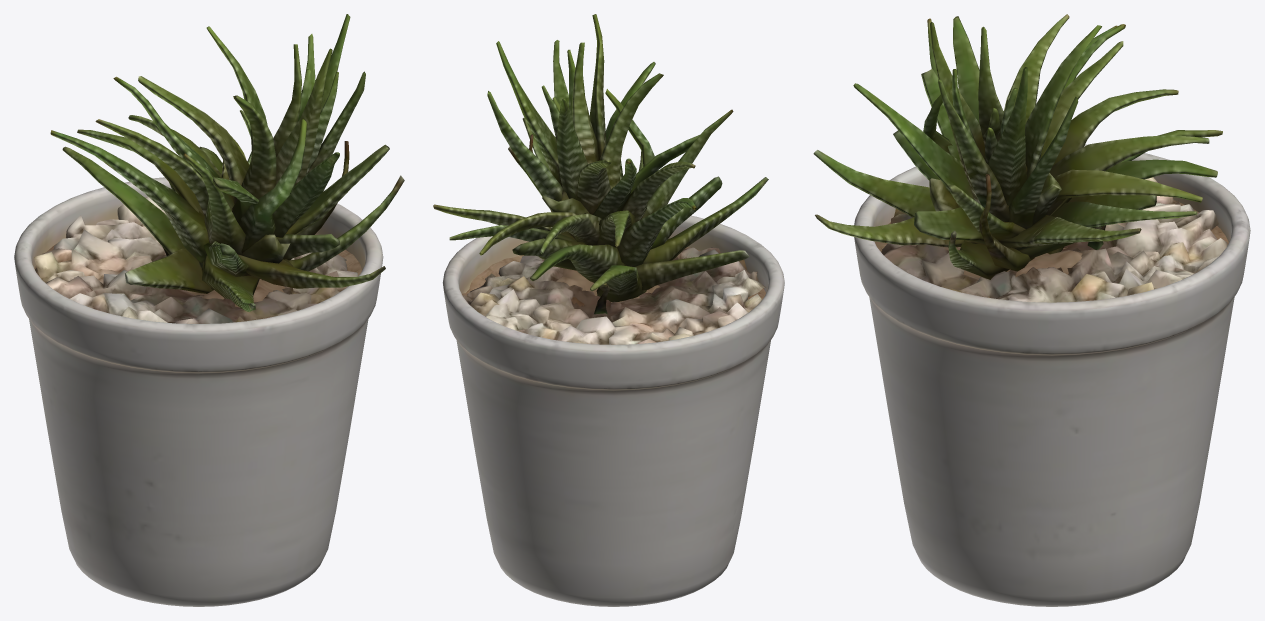
The model's file is potted_plant_04.glb.
The picture shows the model from 3 angles, left to right: view 1: azimuth 30°, elevation 25°; view 2: azimuth 150°, elevation 25°; view 3: azimuth 270°, elevation 25°; orthographic projection. The views are drawn at different scales.
Parts seen in each view (by area): view 1: potted_plant_04_ground; view 2: potted_plant_04_ground; view 3: potted_plant_04_ground.
Boxes of the visible parts, bbox=[...] form: potted_plant_04_ground: bbox=[14, 14, 404, 606]; potted_plant_04_ground: bbox=[433, 14, 784, 606]; potted_plant_04_ground: bbox=[813, 14, 1250, 606].
Bounding box in the file's own units: 0.1679 × 0.2675 × 0.1847.
1 material, 1 textured.
